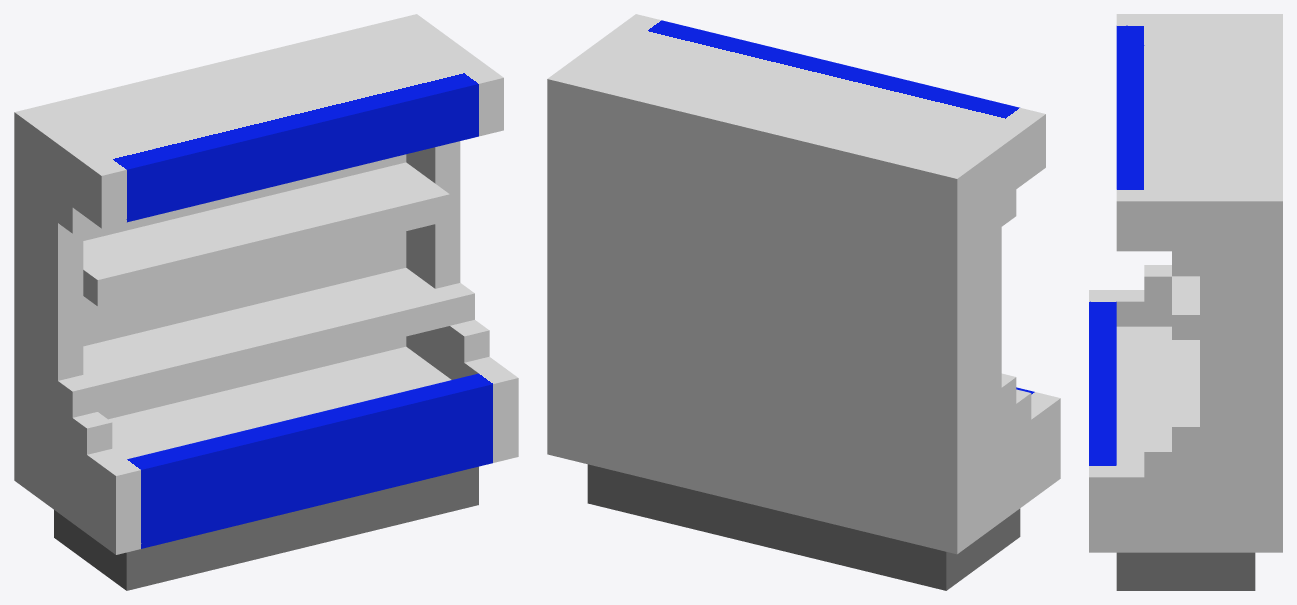
The model's file is Fridge.dae.
3 views of the same model, side by side, from view 1: azimuth 30°, elevation 25°; view 2: azimuth 150°, elevation 25°; view 3: azimuth 270°, elevation 25° (orthographic). The views are drawn at different scales.
Parts seen in each view (by area): view 1: Lodowka; view 2: Lodowka; view 3: Lodowka.
Part boxes in pixels (x1,y1,x2,y2): Lodowka: (14,14,518,590); Lodowka: (547,14,1060,590); Lodowka: (1089,14,1282,590).
Bounding box in the file's own units: 16 × 16 × 7.
1 material, 1 textured.
